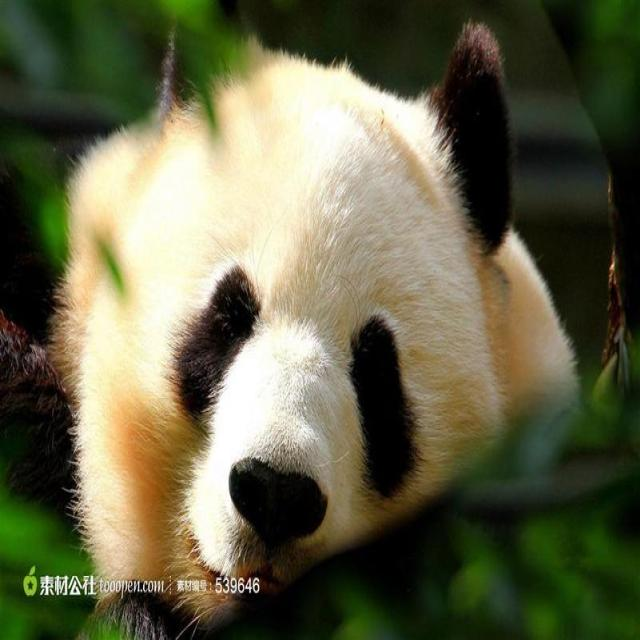panda: (0, 22, 593, 640)
